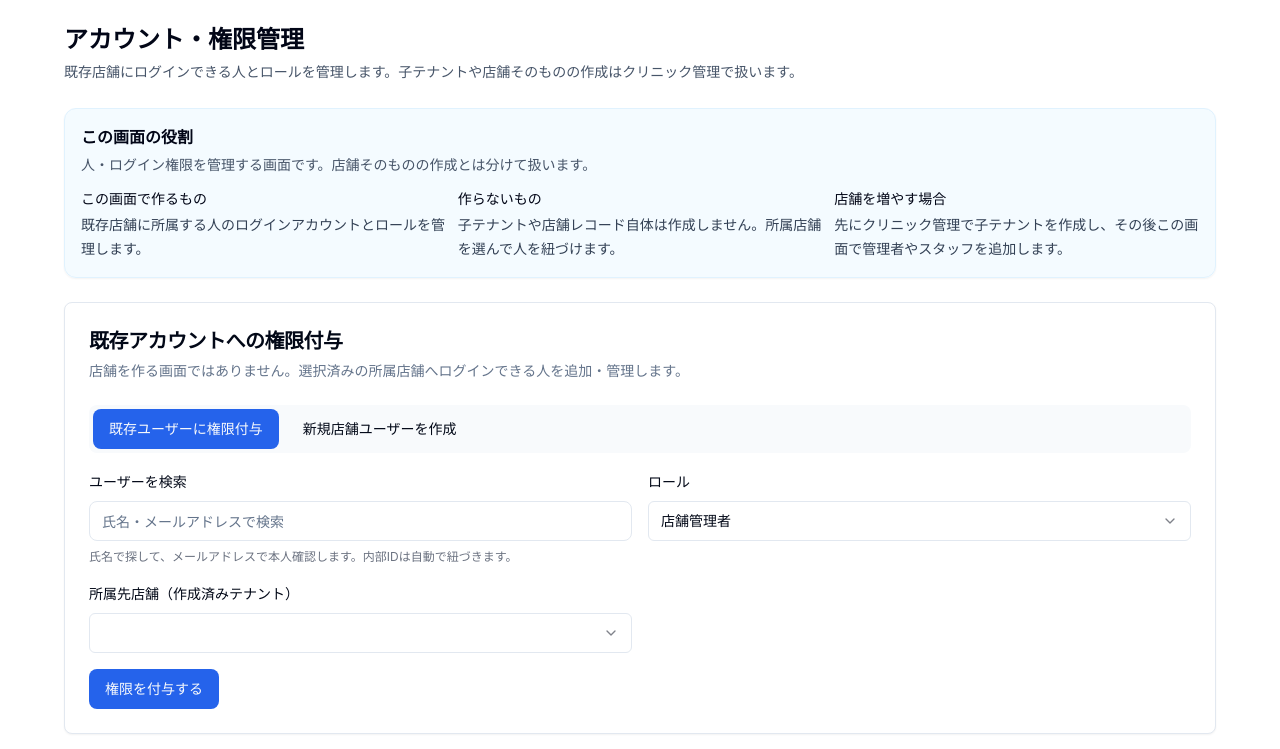
Scenario: AdminUsersPage › prevents manager submission without a clinic_id
The width and height of the screenshot is (1280, 749).
Click the button "新規店舗ユーザーを作成": (380, 429) [287,409,472,449]
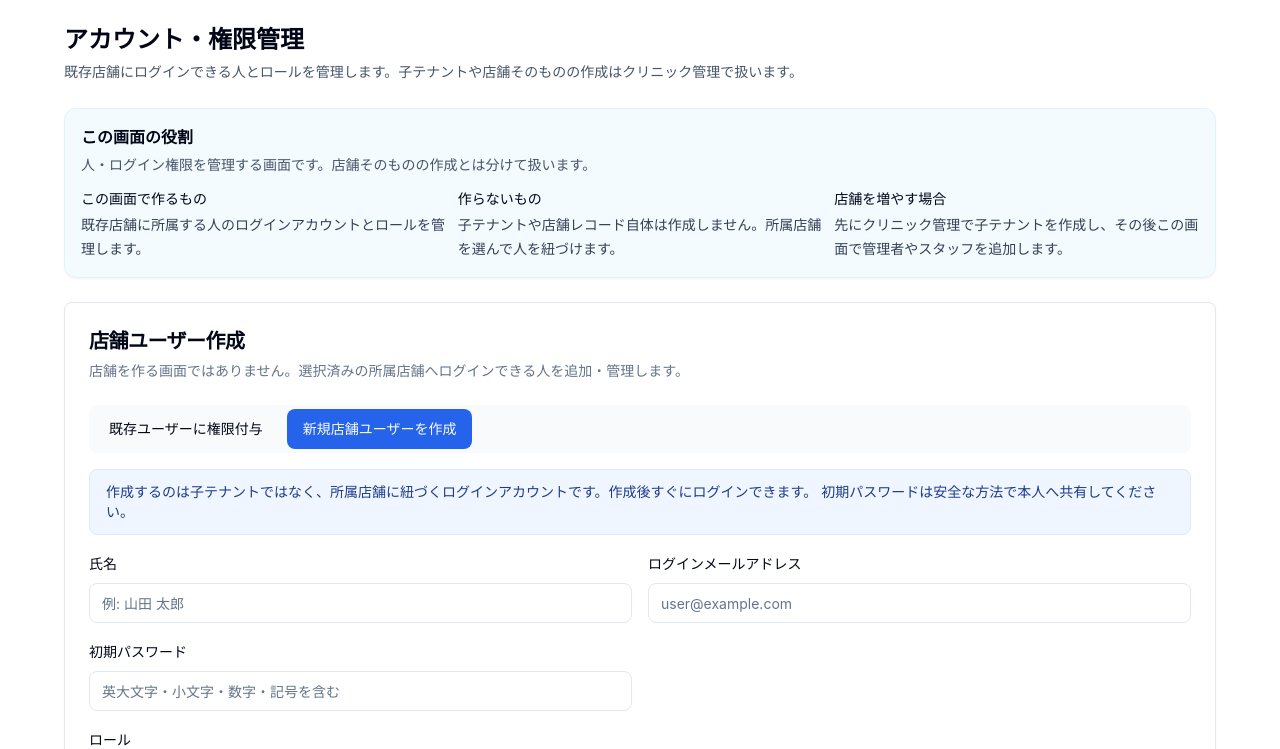
In the field labelled "氏名": (360, 603) [89,583,632,623], type "店舗 管理者"
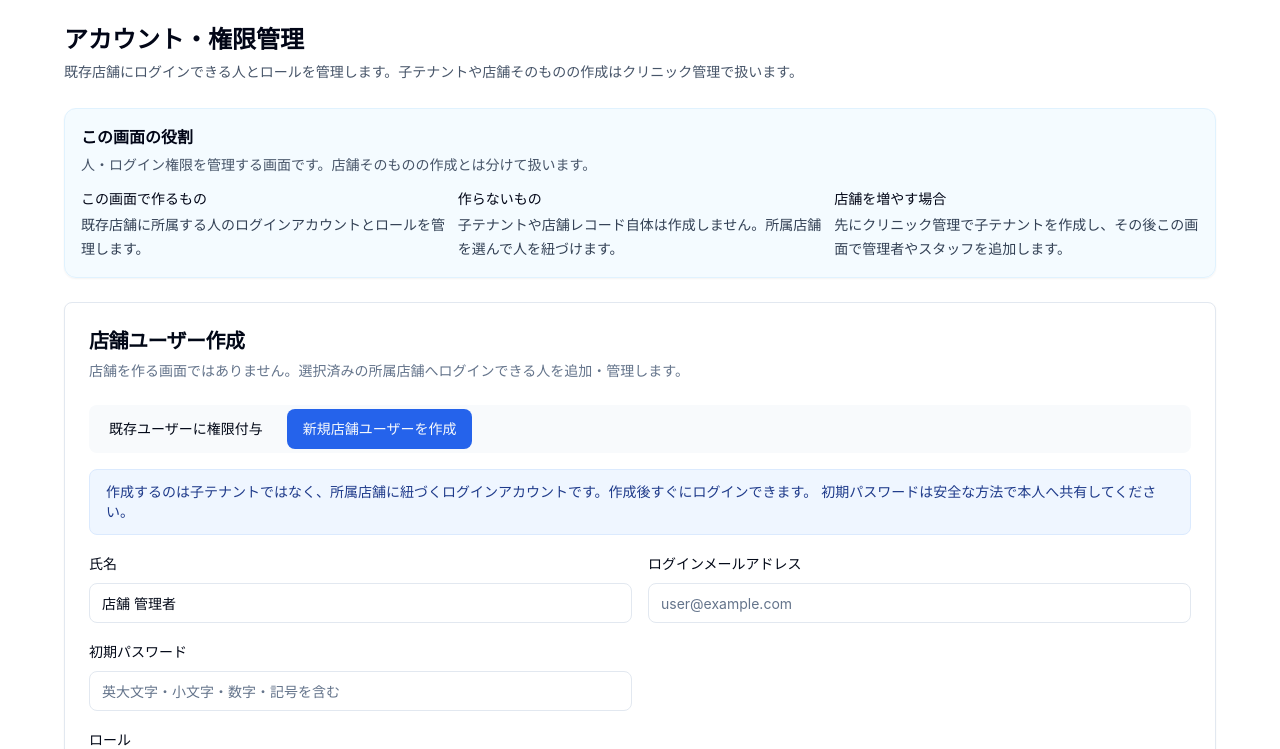
In the field labelled "ログインメールアドレス": (920, 603) [648,583,1191,623], type "AREA-ADMIN@example.com"
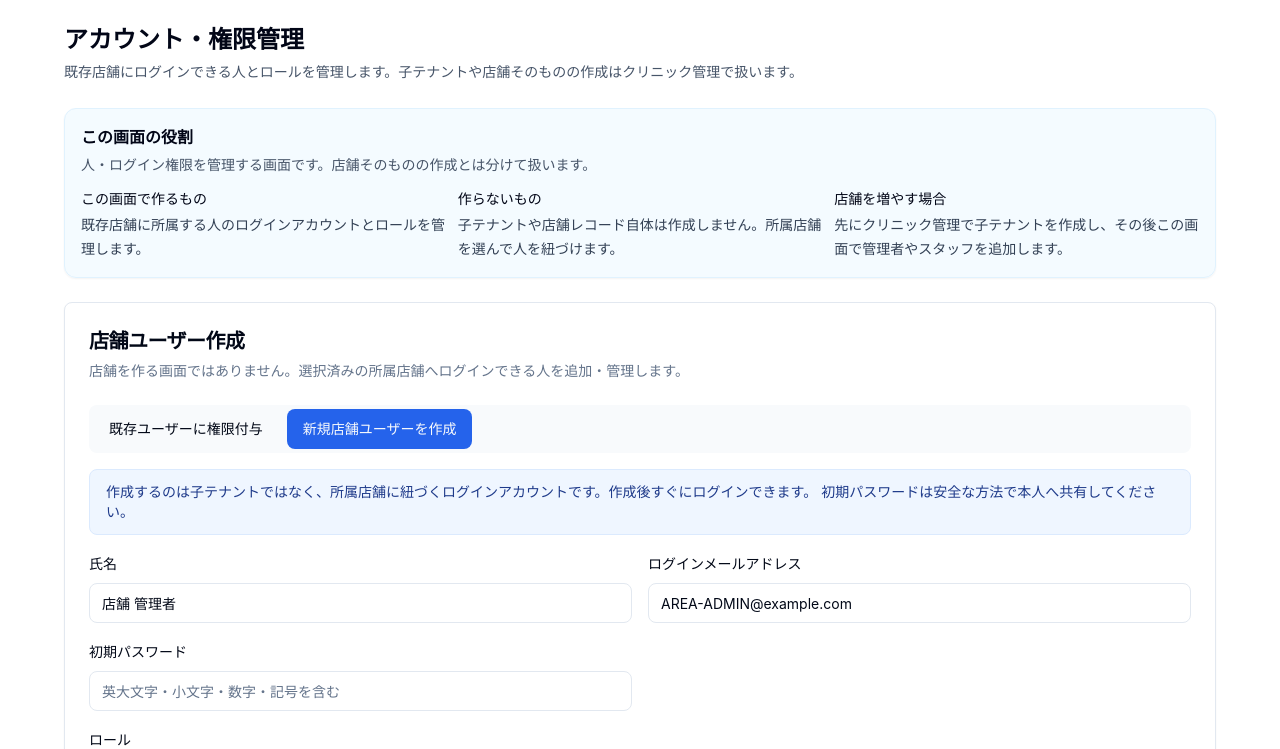
In the password field labelled "初期パスワード": (360, 691) [89,671,632,711], type "SafePass123!"
(page scrolled)
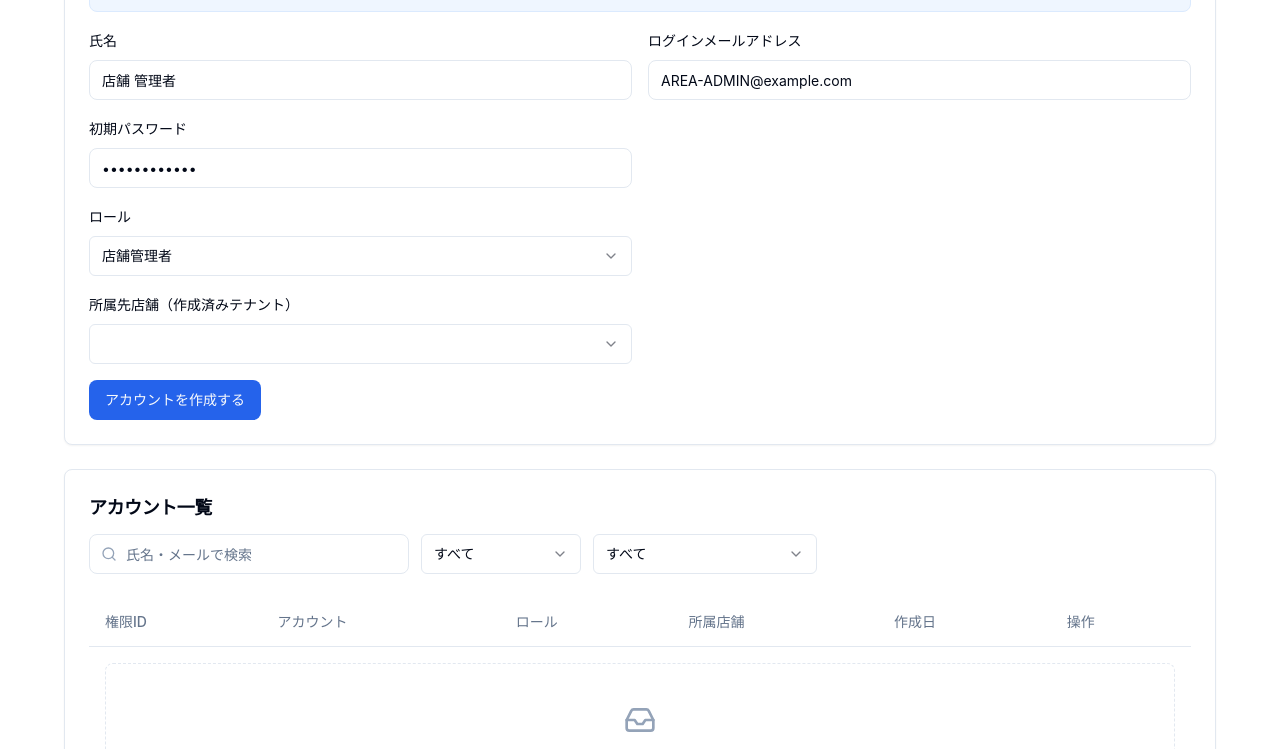
Click the button "アカウントを作成する": (175, 400) [89,380,261,420]
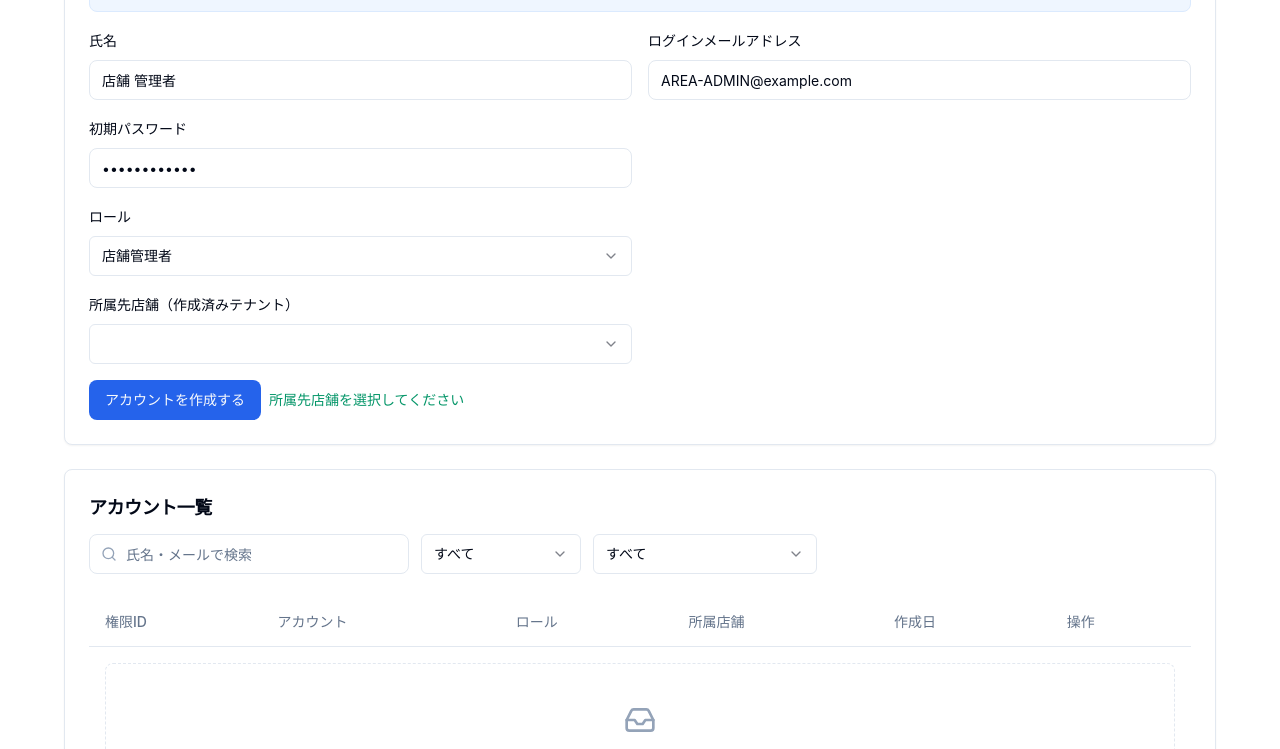
Expected: the text "所属先店舗を選択してください" is shown, [269,390,464,410]
